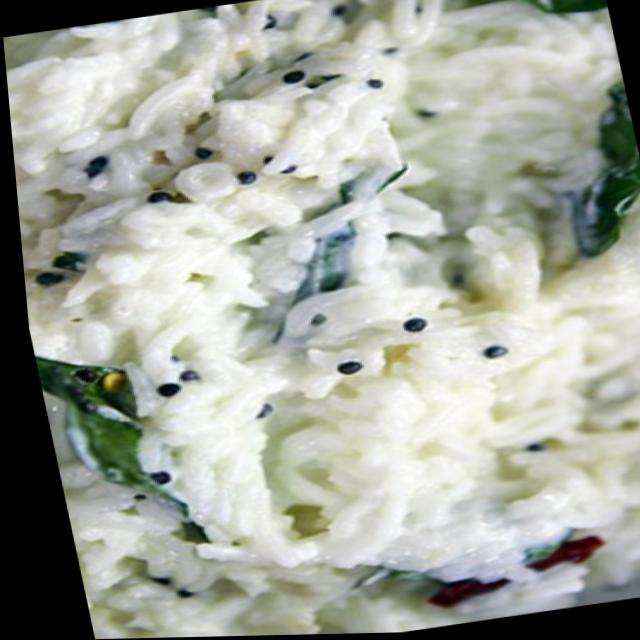CURD RICE: (3, 0, 640, 639)
